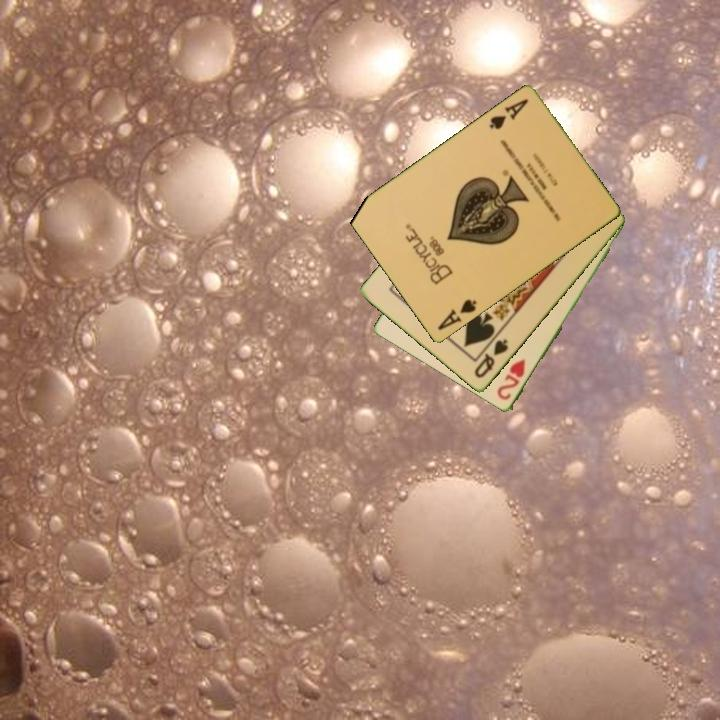2h: (493, 355, 528, 404)
As: (434, 296, 480, 334), (486, 95, 531, 133)
Qs: (471, 336, 512, 381)
